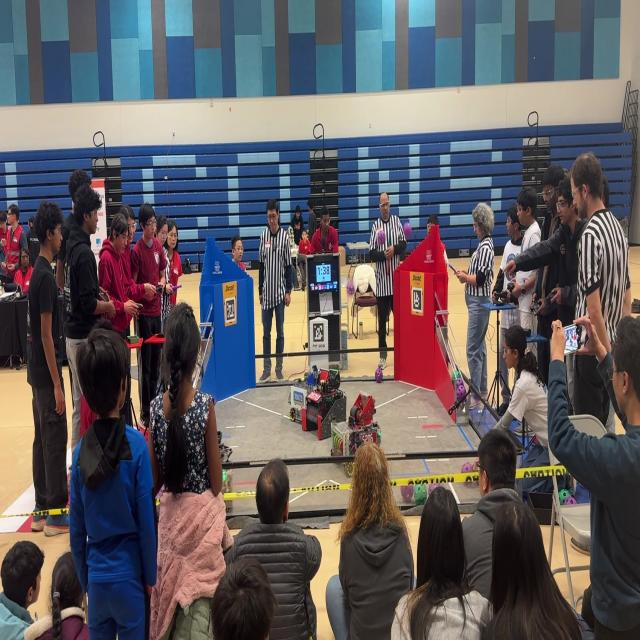artifact_green: (559, 489, 570, 503), (429, 483, 440, 495), (452, 370, 460, 385)
artifact_purple: (456, 378, 467, 402), (414, 485, 427, 505), (401, 485, 413, 503), (347, 279, 356, 296), (559, 489, 570, 502), (377, 229, 385, 245), (404, 222, 412, 238), (429, 483, 440, 494), (375, 367, 383, 382), (461, 463, 473, 473), (563, 496, 576, 505), (461, 463, 472, 473), (473, 459, 479, 473)
